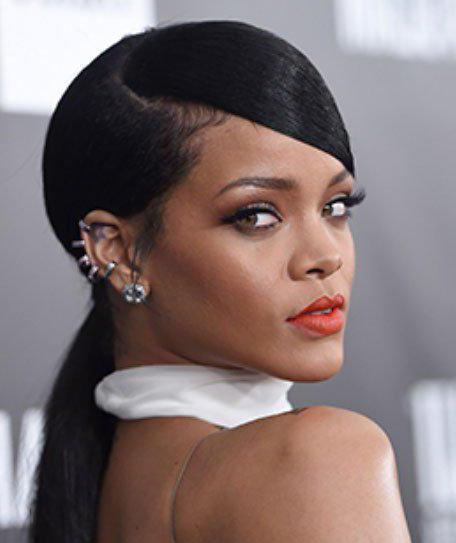Sober: (154, 132, 355, 374)
